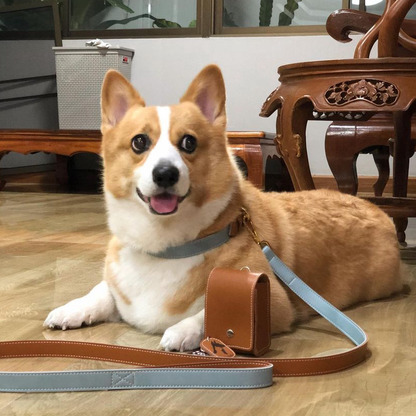Corgi: (59, 46, 387, 355)
